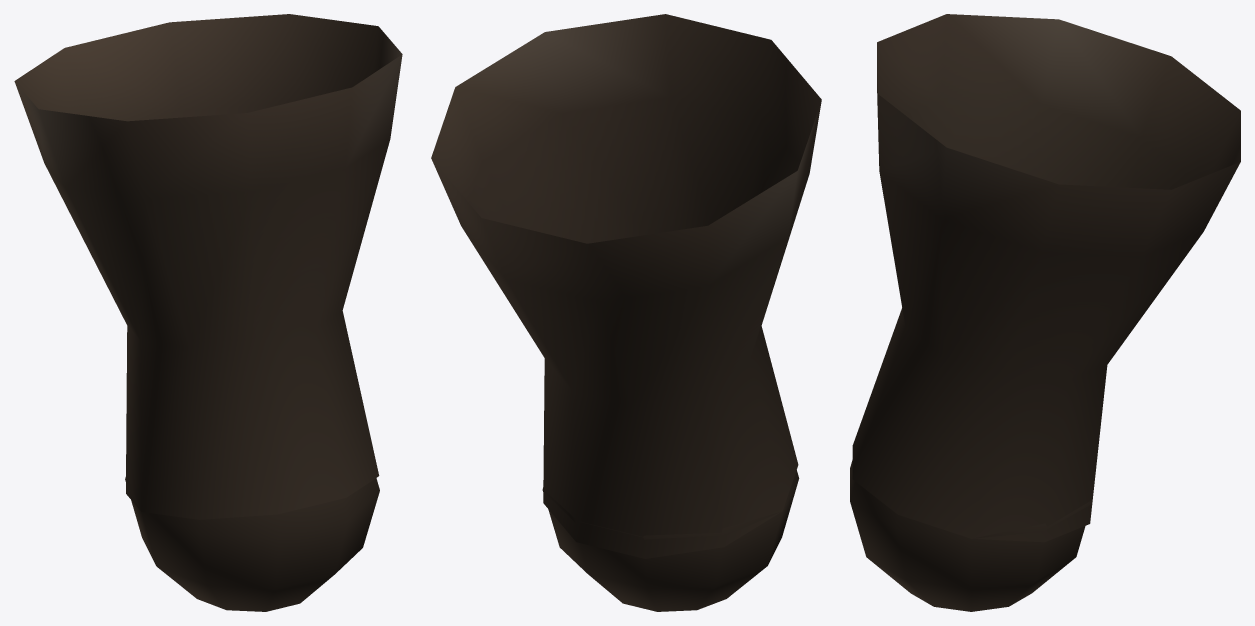
Rendered from Inoshishi_Limb1L.fbx.
3 views of the same model, side by side, from view 1: azimuth 30°, elevation 25°; view 2: azimuth 150°, elevation 25°; view 3: azimuth 270°, elevation 25° (orthographic).
Visible parts, largest first — view 1: Inoshishi_Limb1L; view 2: Inoshishi_Limb1L; view 3: Inoshishi_Limb1L.
Part boxes in pixels (bbox=[...]): Inoshishi_Limb1L: bbox=[14, 14, 402, 611]; Inoshishi_Limb1L: bbox=[431, 14, 821, 611]; Inoshishi_Limb1L: bbox=[850, 14, 1240, 611].
Bounding box in the file's own units: 4.9 × 7.37 × 4.9.
